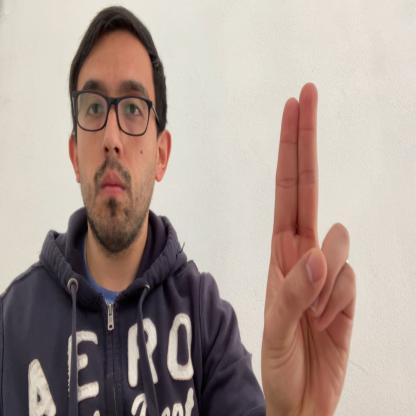U: (264, 78, 356, 415)
